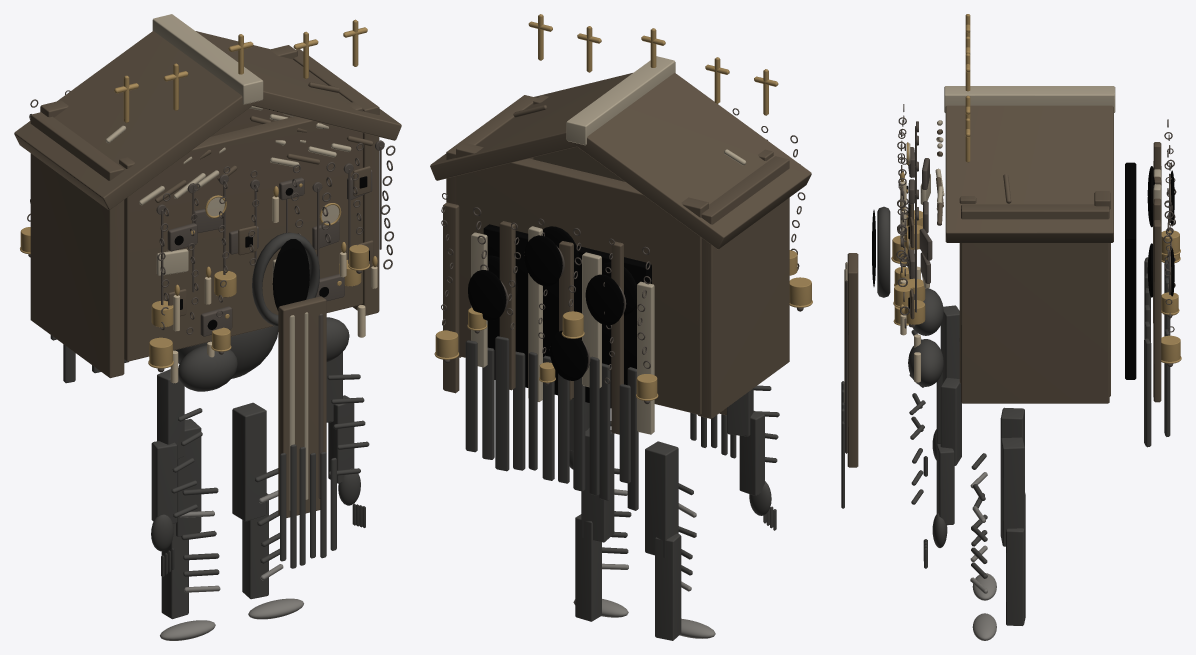
File: penance_carrier_end_goal_v6_mood_body.glb
3 renders of one model, left to right at view 1: azimuth 30°, elevation 25°; view 2: azimuth 150°, elevation 25°; view 3: azimuth 270°, elevation 25°, orthographic. The views are drawn at different scales.
Parts seen in each view (by area): view 1: PC_V4_shrine_front_rotten_wall, PC_V4_roof_left_steep_slab, PC_V4_shrine_left_side_wall, PC_V6_long_door_mask_front, PC_V4_roof_right_steep_slab, PC_V6_right_wrapped_thigh, PC_V4_shrine_right_side_wall, PC_V4_roof_ridge_heavy_rot, PC_V6_head_vertical_black_void, PC_V4_left_shoulder_under_mask, PC_V6_left_wrapped_thigh, PC_V6_right_wrapped_shin (+27 smaller); view 2: PC_V4_shrine_rear_rotten_wall, PC_V4_roof_left_steep_slab, PC_V4_shrine_left_side_wall, PC_V4_roof_right_steep_slab, PC_V4_back_black_rotten_hollow, PC_V6_left_wrapped_thigh, PC_V4_roof_ridge_heavy_rot, PC_V5_back_rotten_vertical_plank_07, PC_V6_left_wrapped_shin, PC_V6_right_wrapped_shin, PC_V5_back_rotten_vertical_plank_00, PC_V5_back_rotten_vertical_plank_05 (+29 smaller); view 3: PC_V4_shrine_right_side_wall, PC_V4_roof_right_steep_slab, PC_V4_roof_ridge_heavy_rot, PC_V4_back_black_rotten_hollow, PC_V6_long_door_mask_front, PC_V6_right_wrapped_thigh, PC_V6_right_wrapped_shin, PC_V5_back_rotten_vertical_plank_07, PC_V4_right_long_upper_arm_wrapped, PC_V4_right_long_forearm_wrapped, PC_V4_left_long_upper_arm_wrapped, PC_V6_head_narrow_hood_oval_ring (+9 smaller).
Part boxes in pixels (x1,y1,x2,y2): PC_V4_shrine_front_rotten_wall: [119, 102, 362, 361]; PC_V4_roof_left_steep_slab: [14, 31, 257, 209]; PC_V4_shrine_left_side_wall: [30, 112, 124, 378]; PC_V6_long_door_mask_front: [278, 296, 326, 517]; PC_V4_roof_right_steep_slab: [196, 31, 401, 140]; PC_V6_right_wrapped_thigh: [232, 402, 266, 521]; PC_V4_shrine_right_side_wall: [293, 49, 379, 315]; PC_V4_roof_ridge_heavy_rot: [152, 14, 263, 104]; PC_V6_head_vertical_black_void: [272, 239, 309, 310]; PC_V4_left_shoulder_under_mask: [178, 345, 237, 391]; PC_V6_left_wrapped_thigh: [176, 419, 201, 536]; PC_V6_right_wrapped_shin: [242, 493, 268, 599]; PC_V4_shrine_rear_rotten_wall: [456, 142, 708, 414]; PC_V4_roof_left_steep_slab: [572, 72, 811, 249]; PC_V4_shrine_left_side_wall: [697, 156, 789, 418]; PC_V4_roof_right_steep_slab: [430, 73, 632, 180]; PC_V4_back_black_rotten_hollow: [483, 224, 651, 407]; PC_V6_left_wrapped_thigh: [645, 441, 678, 557]; PC_V4_roof_ridge_heavy_rot: [566, 56, 675, 145]; PC_V5_back_rotten_vertical_plank_07: [443, 202, 459, 393]; PC_V6_left_wrapped_shin: [655, 533, 681, 640]; PC_V6_right_wrapped_shin: [575, 514, 601, 621]; PC_V5_back_rotten_vertical_plank_00: [637, 281, 654, 434]; PC_V5_back_rotten_vertical_plank_05: [499, 221, 515, 390]; PC_V4_shrine_right_side_wall: [961, 204, 1109, 403]; PC_V4_roof_right_steep_slab: [945, 105, 1113, 242]; PC_V4_roof_ridge_heavy_rot: [944, 86, 1115, 112]; PC_V4_back_black_rotten_hollow: [1125, 162, 1136, 379]; PC_V6_long_door_mask_front: [847, 253, 858, 467]; PC_V6_right_wrapped_thigh: [1000, 437, 1024, 546]; PC_V6_right_wrapped_shin: [1006, 524, 1025, 625]; PC_V5_back_rotten_vertical_plank_07: [1153, 220, 1161, 402]; PC_V4_right_long_upper_arm_wrapped: [940, 377, 961, 465]; PC_V4_right_long_forearm_wrapped: [936, 444, 954, 525]; PC_V4_left_long_upper_arm_wrapped: [940, 305, 959, 382]; PC_V6_head_narrow_hood_oval_ring: [877, 206, 890, 297].
Bounding box in the file's own units: 2.3 × 4.4 × 2.43.
